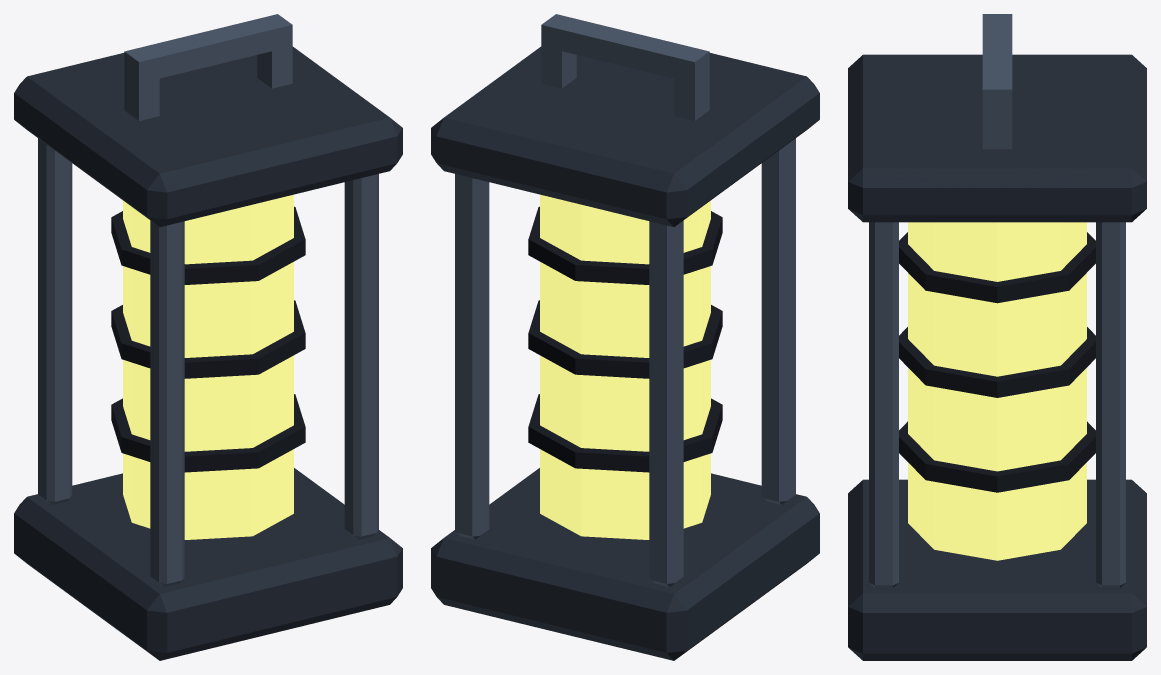
File: Mono_Battery.fbx
3 renders of one model, left to right at view 1: azimuth 30°, elevation 25°; view 2: azimuth 150°, elevation 25°; view 3: azimuth 270°, elevation 25°, orthographic.
Visible parts, largest first — view 1: Mono_Battery; view 2: Mono_Battery; view 3: Mono_Battery.
Part boxes in pixels (bbox=[...]): Mono_Battery: bbox=[14, 14, 402, 660]; Mono_Battery: bbox=[431, 14, 819, 660]; Mono_Battery: bbox=[848, 14, 1146, 660].
Bounding box in the file's own units: 1 × 1 × 2.04.
